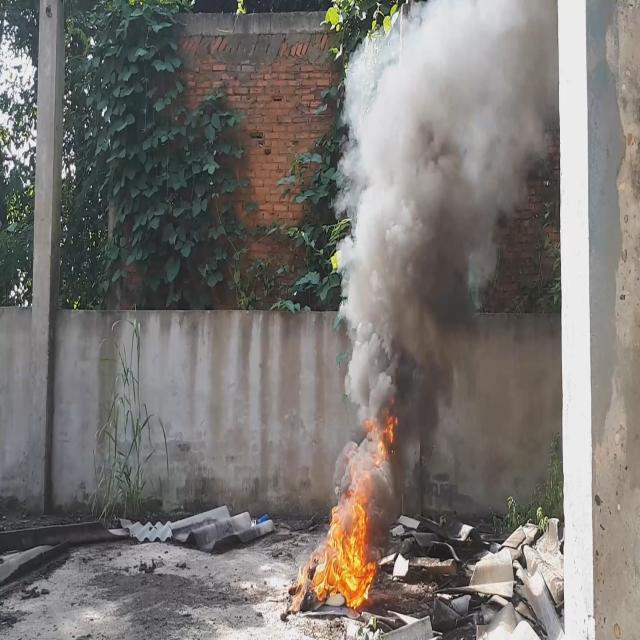Fire: (308, 416, 399, 616)
Smoke: (333, 0, 556, 504)
